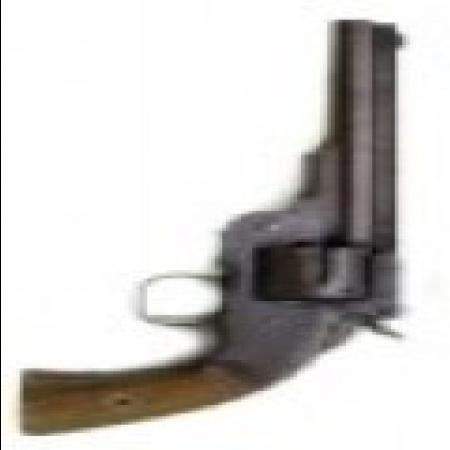Pistol: (37, 28, 413, 430)
